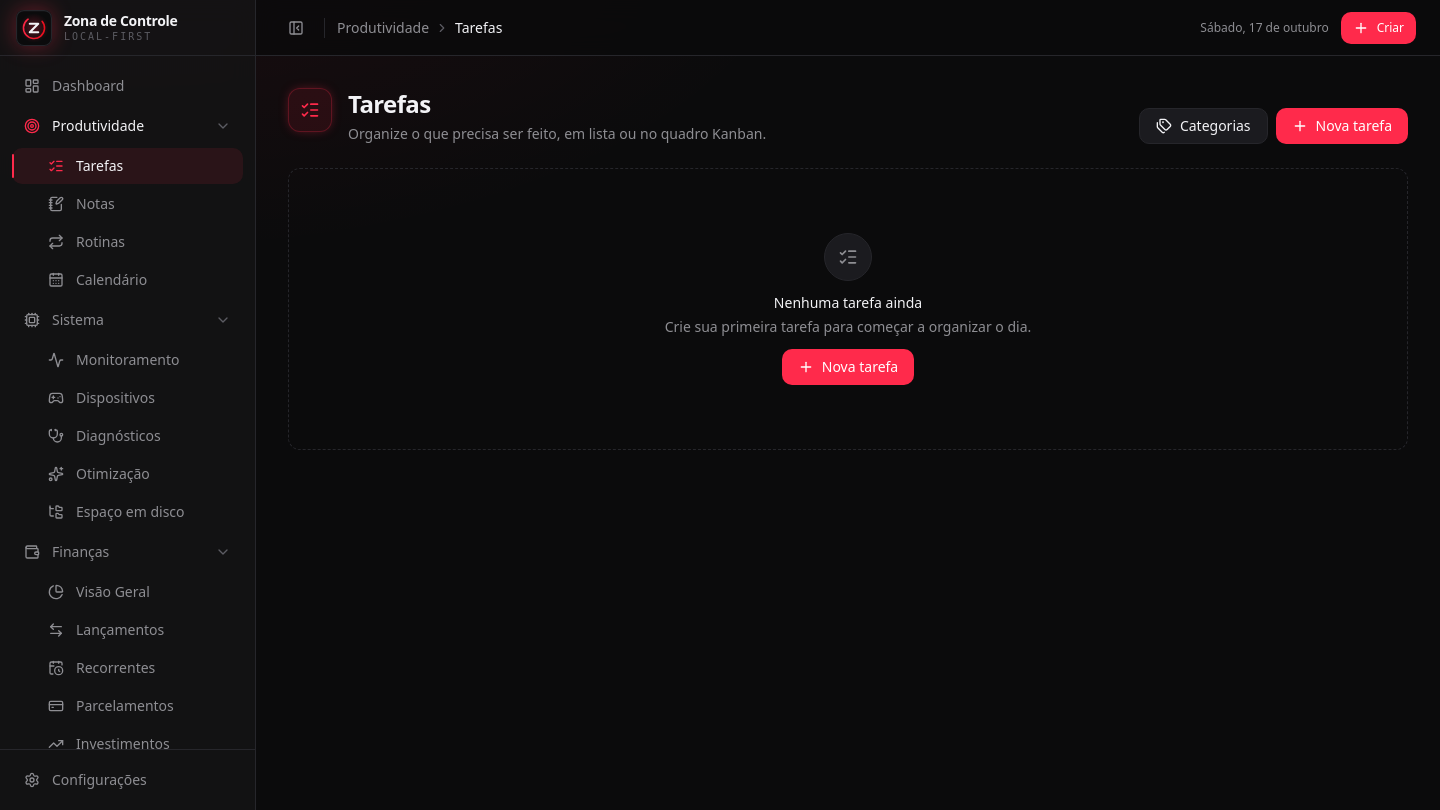
it: página de Tarefas — lista › mostra estado vazio e cria a primeira tarefa pelo formulário
Expected: the text "Nenhuma tarefa ainda" is shown, [774, 293, 922, 312]
Step 1. Click the 1st button "Nova tarefa" → (1342, 126), box [1276, 108, 1408, 144]
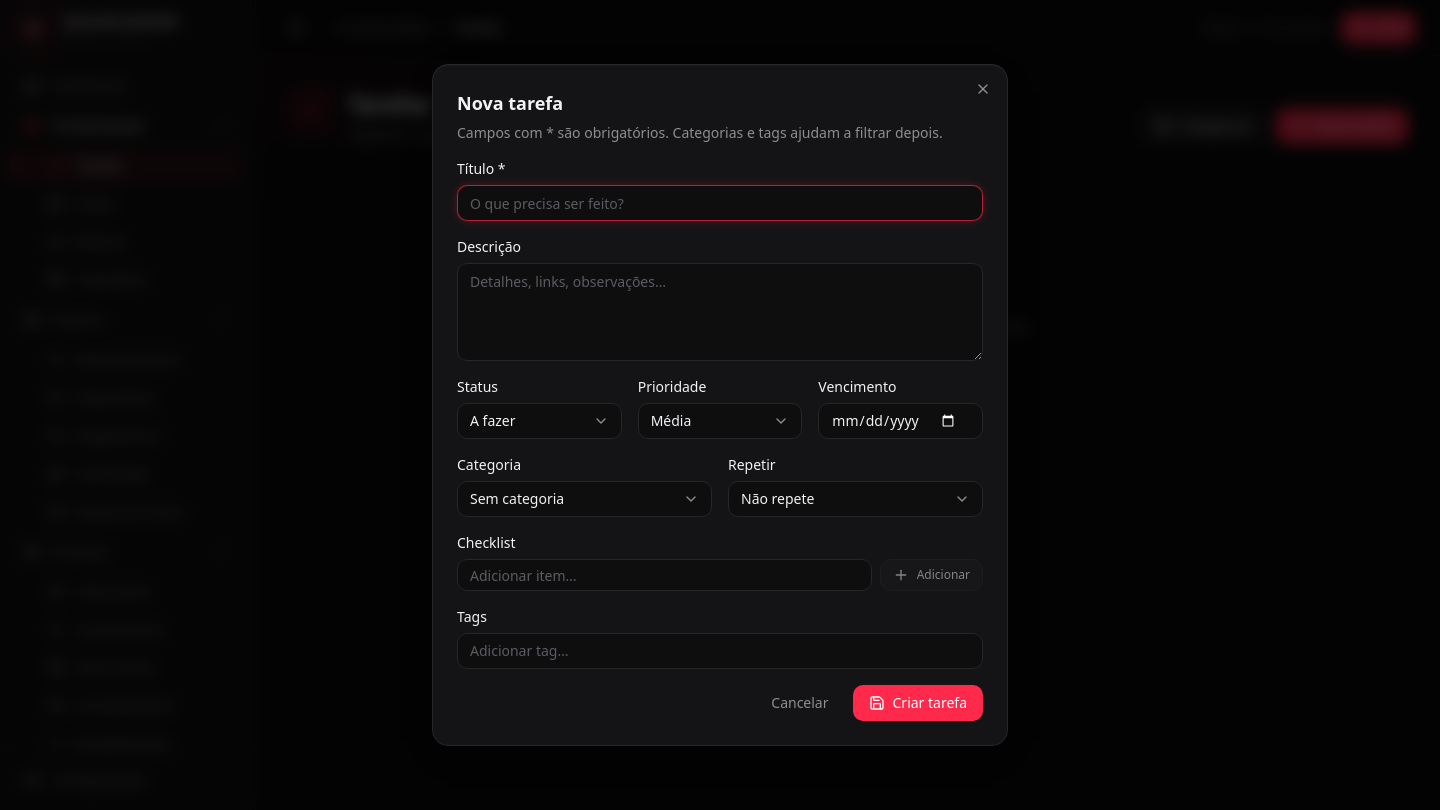
// Título obrigatório: nada é enviado sem ele.
Step 2. Click the button "Criar tarefa" → (918, 703), box [852, 685, 983, 721]
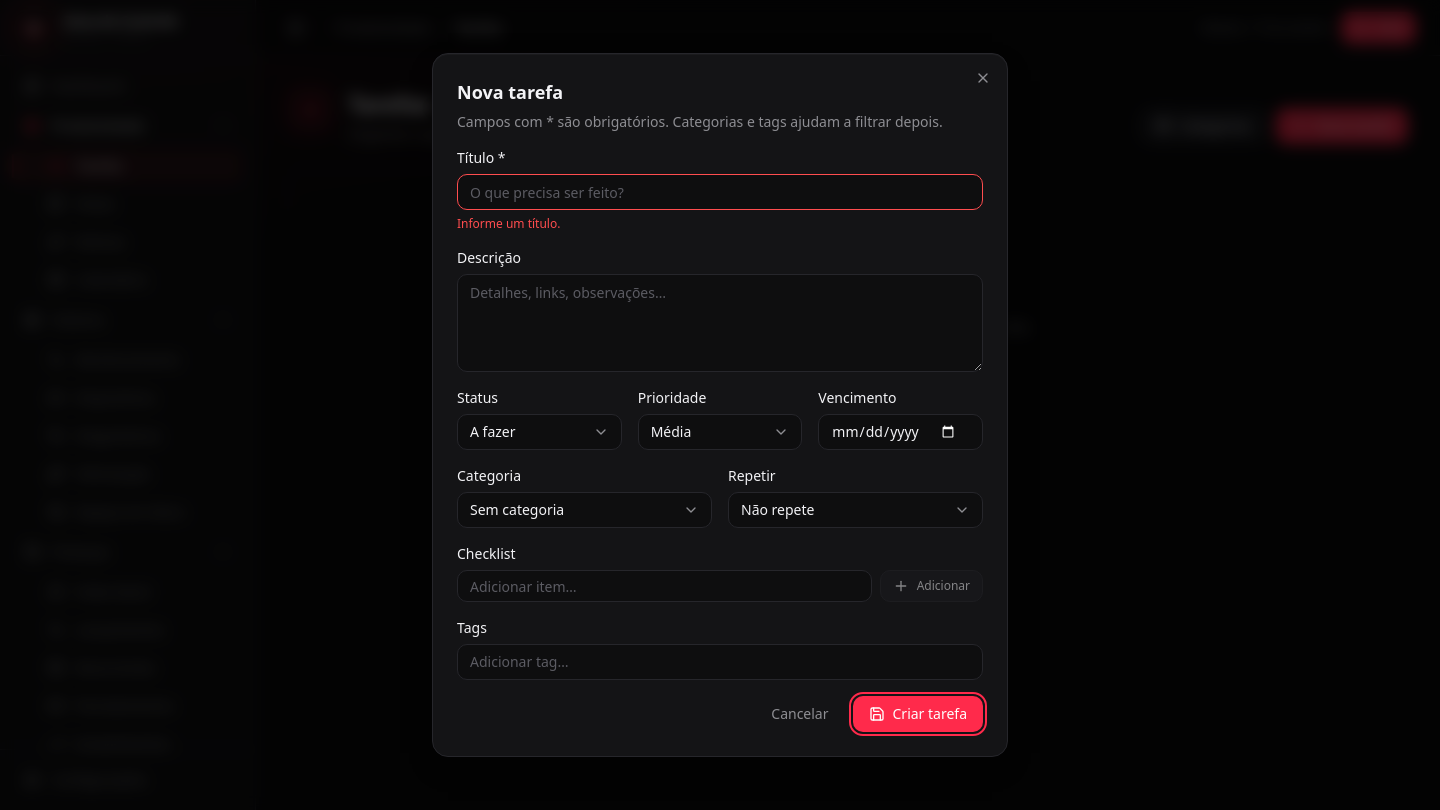
Result: the text "Informe um título." is shown at [457, 215, 560, 232]
Step 3. Type "  Estudar Rust  " into the field labelled "Título *" → (720, 192), box [457, 174, 983, 210]
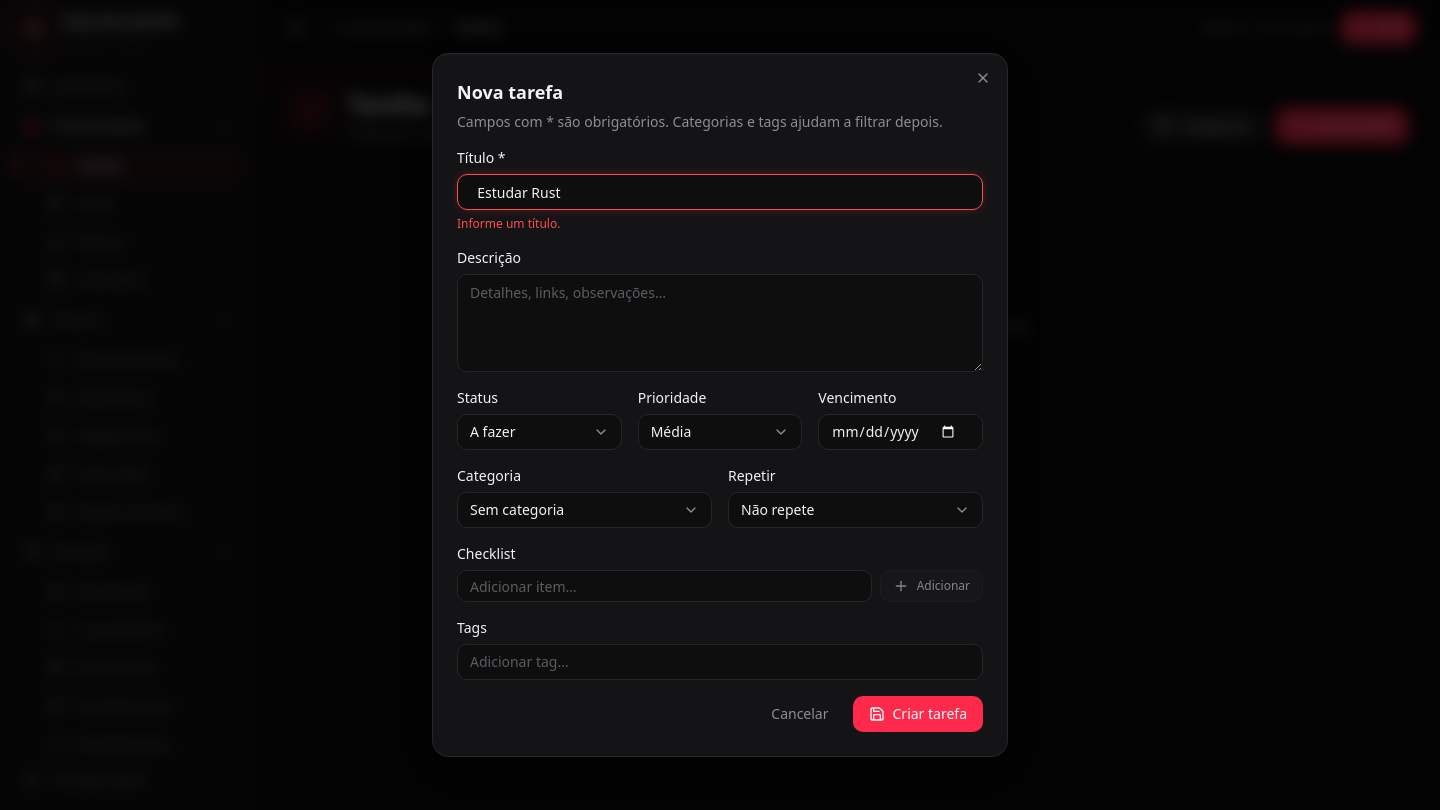
Step 4. Type "Estudos" into the field labelled "Tags" → (720, 662), box [466, 652, 974, 672]
Then press Enter
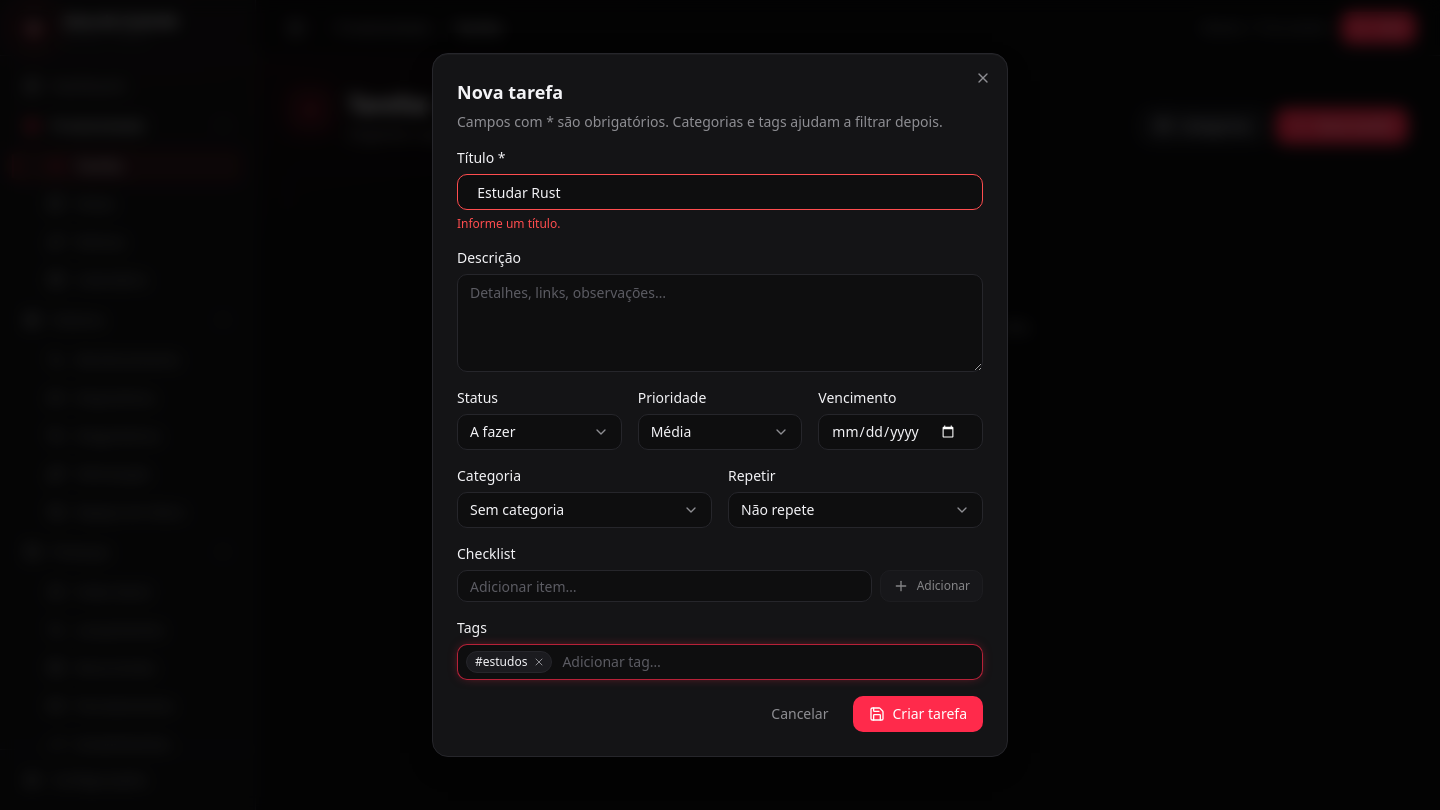
Step 5. Click the button "Criar tarefa" → (918, 714), box [852, 696, 983, 732]
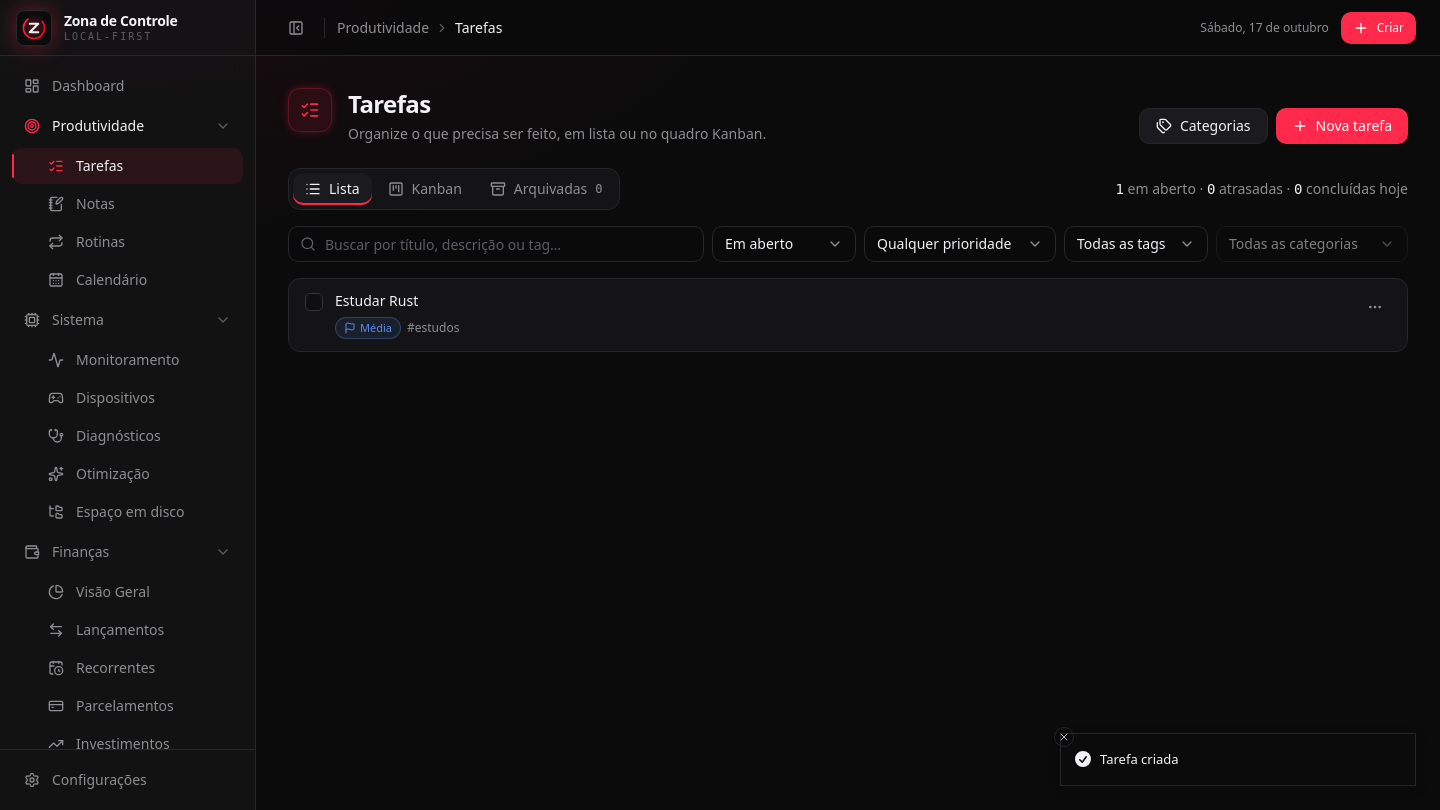
Result: the button "Estudar Rust" is shown at [335, 291, 1347, 311]
Result: the dialog is gone
